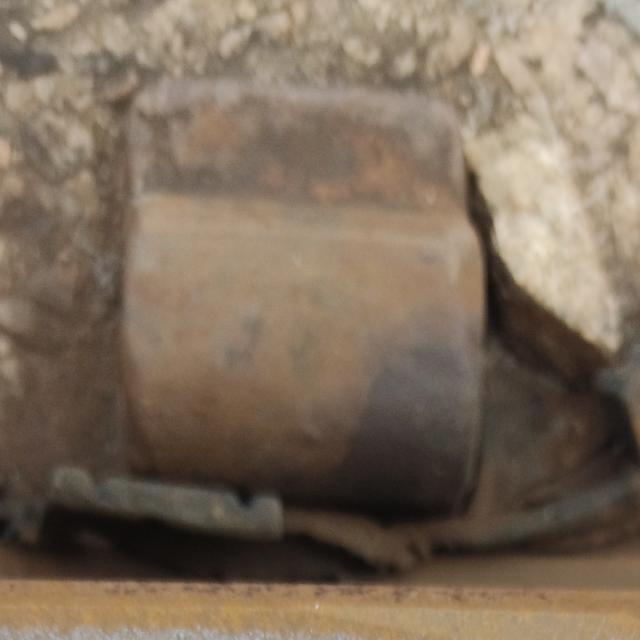track_bolt_missing: (108, 180, 496, 538)
